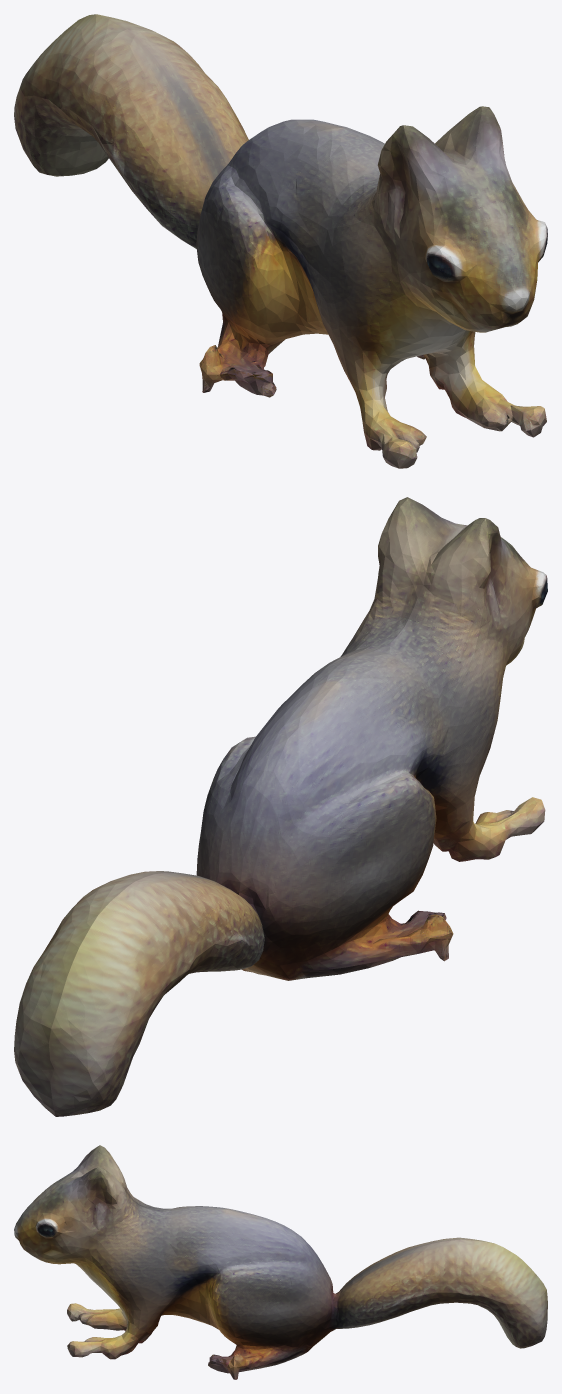
Rendered from Squirrel_NoAnimation.glb.
The picture shows the model from 3 angles, top to bottom: view 1: azimuth 30°, elevation 25°; view 2: azimuth 150°, elevation 25°; view 3: azimuth 270°, elevation 25°; orthographic projection. The views are drawn at different scales.
Parts seen in each view (by area): view 1: world; view 2: world; view 3: world.
Part boxes in pixels (x1=…): world: x1=14, y1=14, x2=547, y2=468; world: x1=14, y1=497, x2=547, y2=1116; world: x1=14, y1=1145, x2=547, y2=1379.
Size of the model in its own units: 0.3082 by 0.3984 by 1.
Materials: 1 (1 with a texture image).
